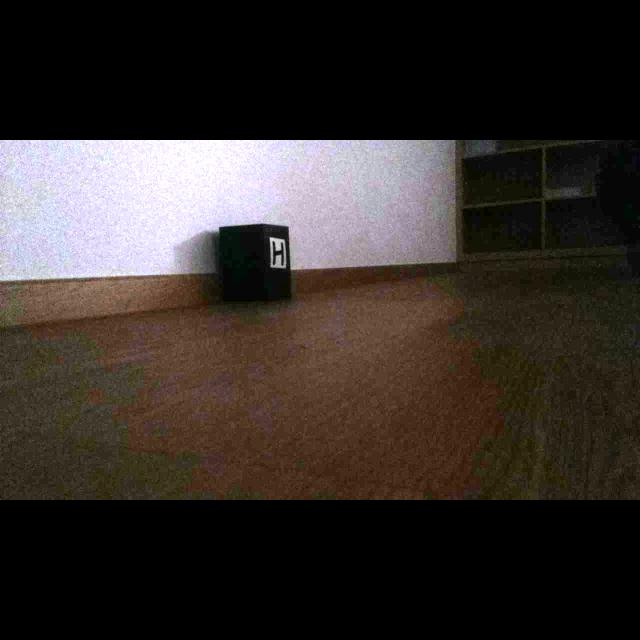H: (272, 241, 284, 266)
